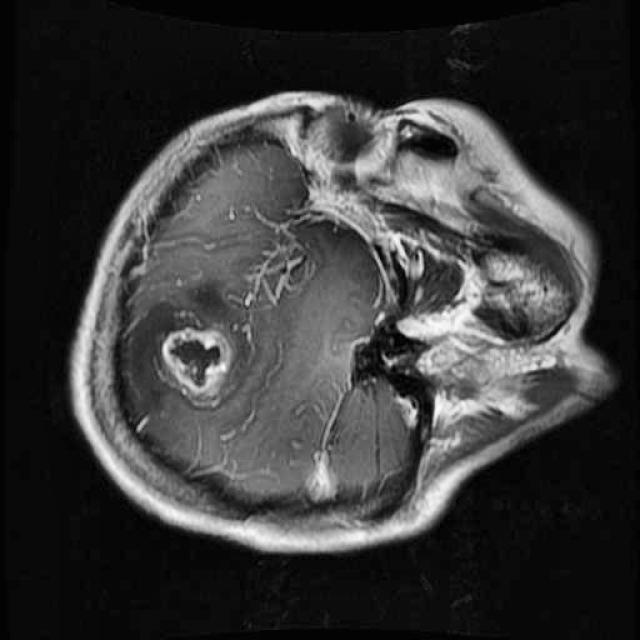Non-Tumor: (151, 308, 258, 412)
